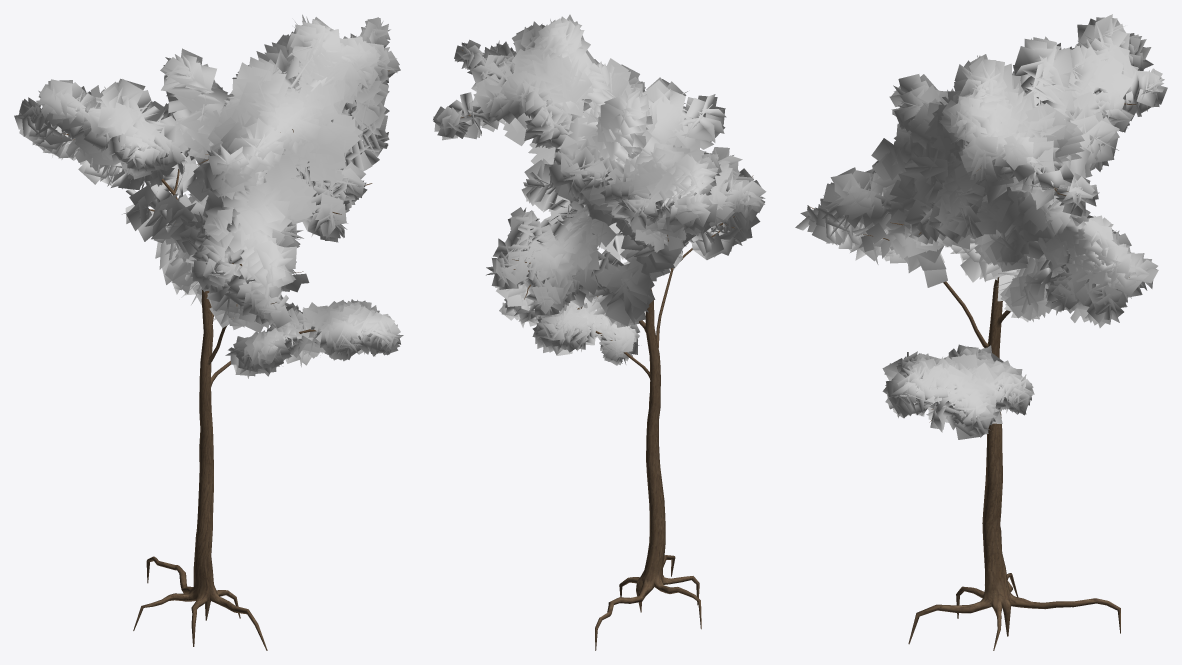
File: Tree_06.fbx
3 renders of one model, left to right at view 1: azimuth 30°, elevation 25°; view 2: azimuth 150°, elevation 25°; view 3: azimuth 270°, elevation 25°, orthographic. The views are drawn at different scales.
Parts seen in each view (by area): view 1: Tree_06_LOD0; view 2: Tree_06_LOD0; view 3: Tree_06_LOD0.
Boxes of the visible parts, left/top/right/bottom form: Tree_06_LOD0: left=14, top=14, right=403, bottom=650; Tree_06_LOD0: left=433, top=14, right=766, bottom=650; Tree_06_LOD0: left=795, top=14, right=1167, bottom=650.
Size of what is drawn, in the model's own units: 4.1 by 7.18 by 3.87.
